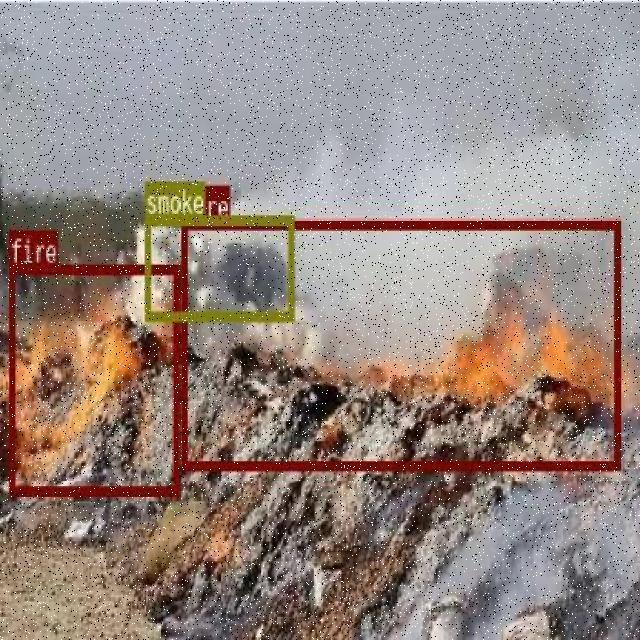Fire: (365, 302, 640, 429), (12, 268, 162, 477)
Smoke: (144, 215, 293, 318)
